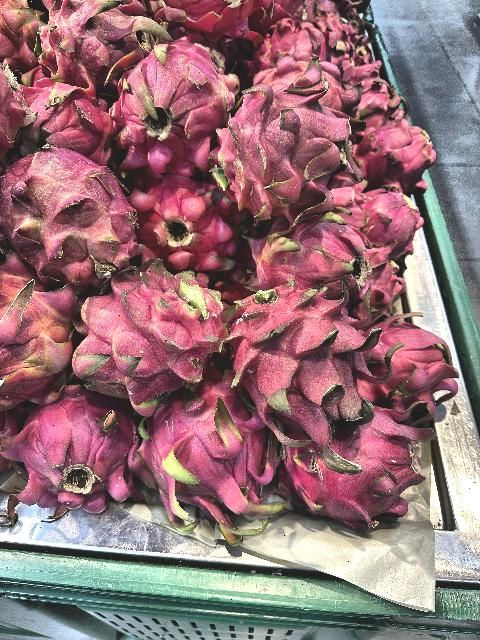buah-naga-matang: (226, 292, 379, 460), (120, 390, 276, 536), (76, 268, 218, 414), (218, 77, 354, 227), (0, 149, 148, 281), (272, 416, 440, 530), (107, 38, 232, 168), (358, 307, 464, 431), (233, 214, 381, 298), (5, 71, 122, 177), (24, 398, 132, 506), (121, 171, 233, 271), (0, 273, 78, 409), (37, 4, 159, 80), (356, 182, 430, 252)
